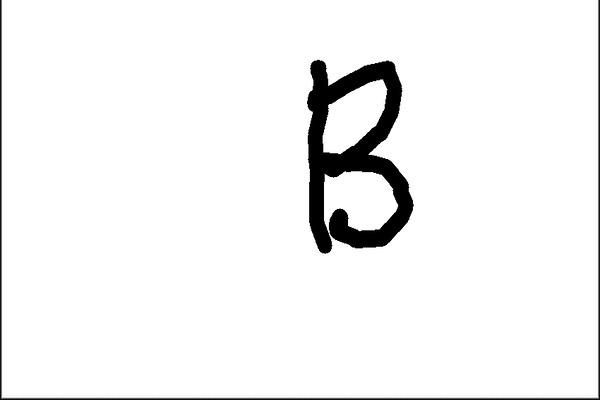B: (298, 49, 416, 258)
